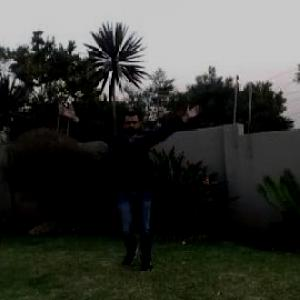takeoff: (39, 103, 204, 274)
